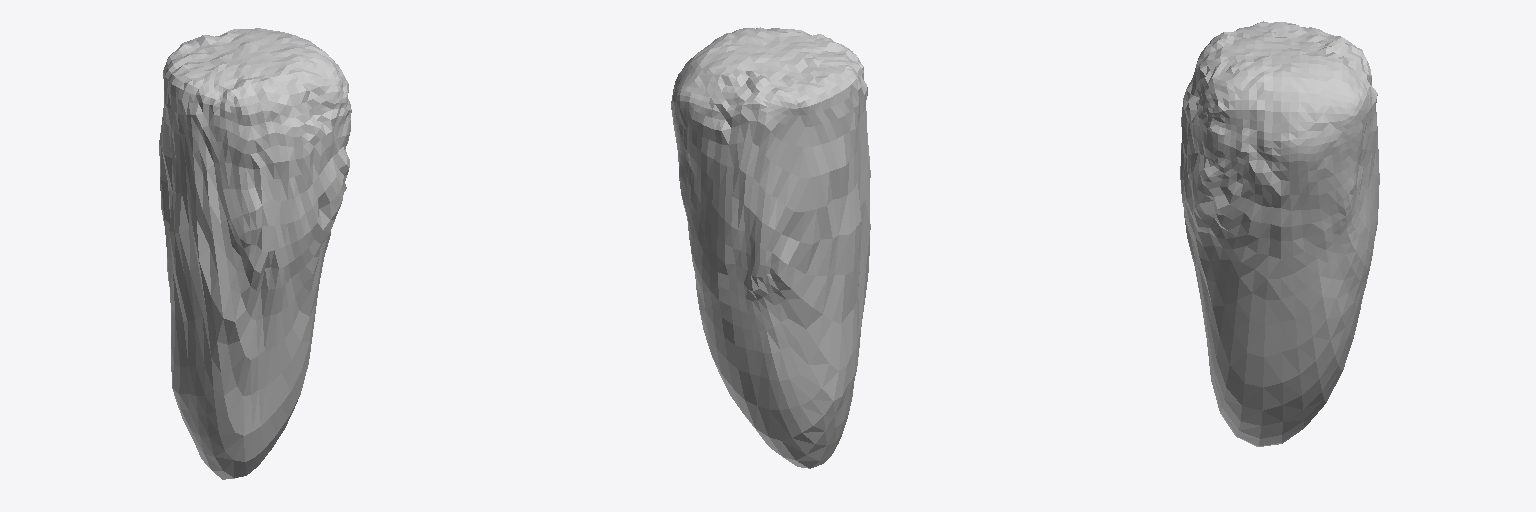
File: rock2.obj
3 views of the same model, side by side, from view 1: azimuth 30°, elevation 25°; view 2: azimuth 150°, elevation 25°; view 3: azimuth 270°, elevation 25° (orthographic).
Visible parts, largest first — view 1: rock_02.006; view 2: rock_02.006; view 3: rock_02.006.
Boxes of the visible parts, <box> form: rock_02.006: <box>159,28,351,479</box>; rock_02.006: <box>671,27,870,468</box>; rock_02.006: <box>1180,21,1379,446</box>.
Size of the model in its own units: 1.06 by 2.46 by 1.08.